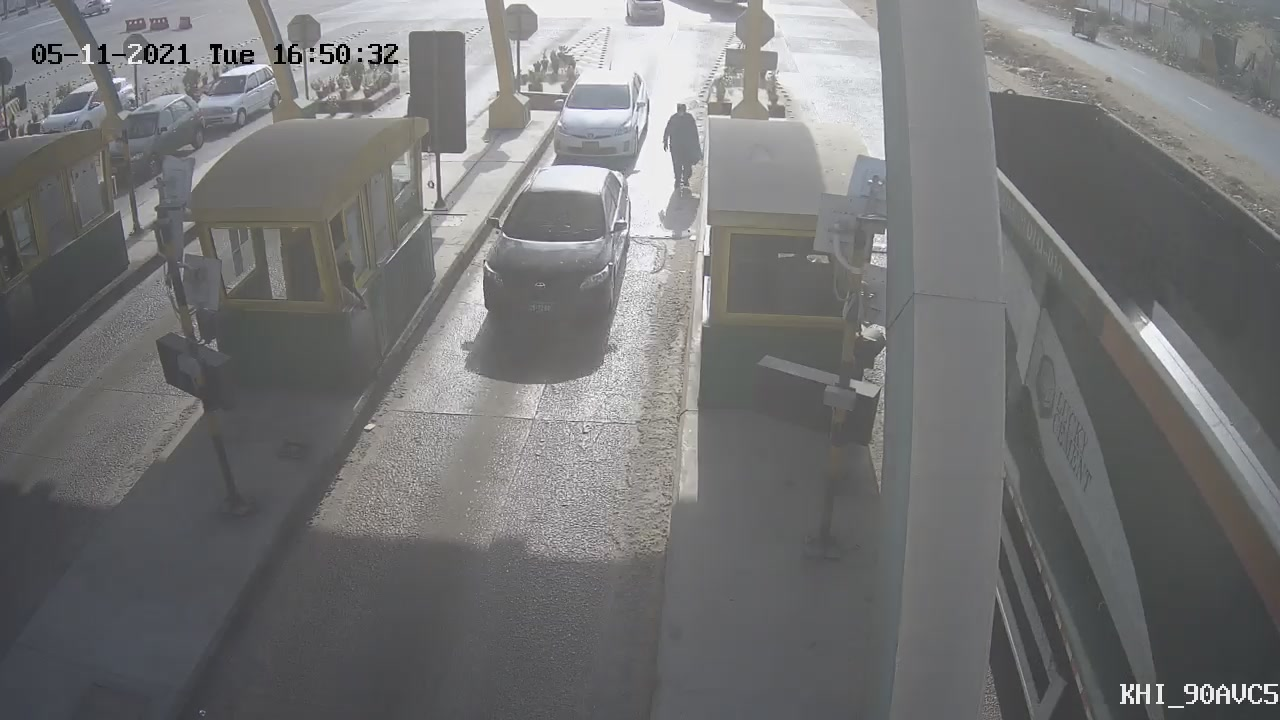F1: (455, 152, 651, 348), (535, 52, 668, 186)
